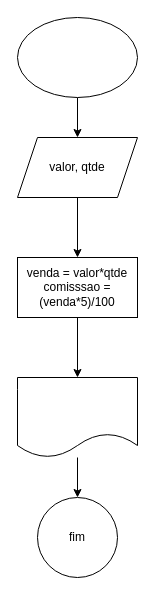
This 155x595 diagram has some shape labels left out. The shapes that lost their labels are listed below. From the top down, each one's centre as x and y in pixels, then its label:
point 77,57: inicio
point 77,417: comissao
